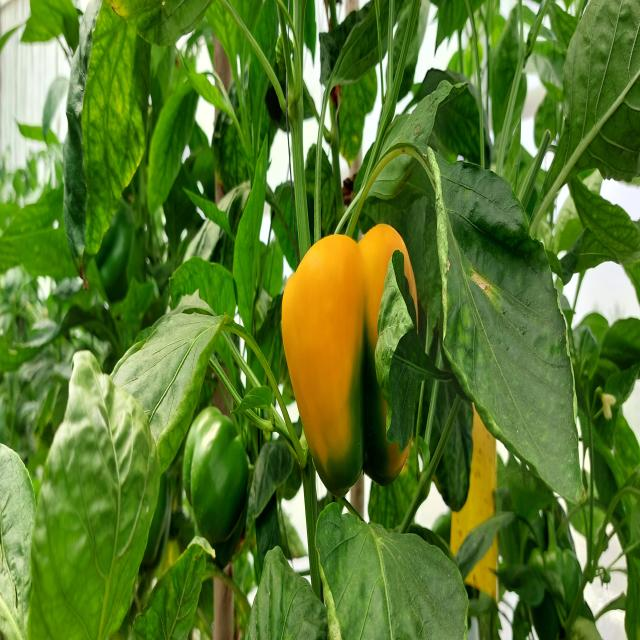Green--Not-ready-to-harvest: (189, 412, 252, 558)
GreenishYellow--Can-be-Harvested: (270, 203, 422, 488)
